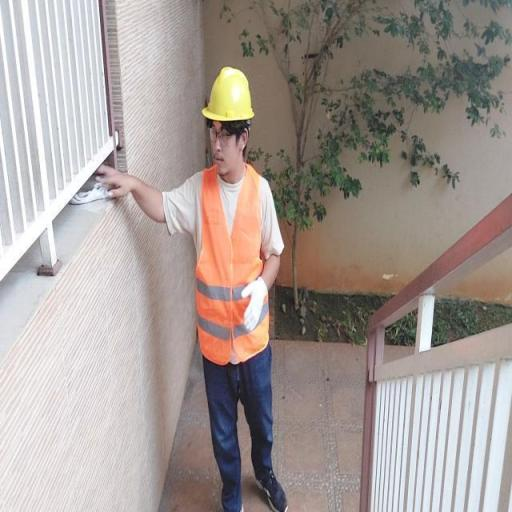Person: (118, 55, 332, 509)
gloves: (234, 272, 272, 332)
goggles: (204, 123, 247, 150)
helmet: (202, 61, 260, 123)
vest: (185, 166, 275, 362)
